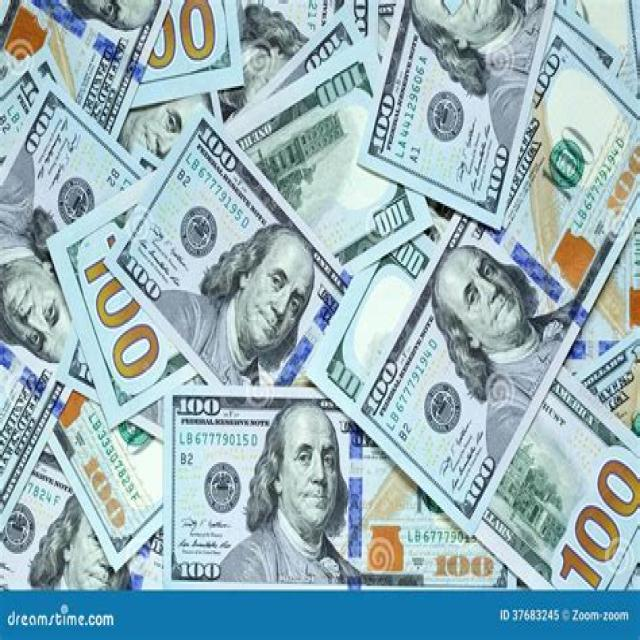Hundred: (349, 18, 640, 537), (52, 44, 428, 423), (315, 226, 640, 589), (0, 80, 171, 530), (162, 388, 517, 588), (110, 106, 352, 385), (358, 0, 555, 225)
